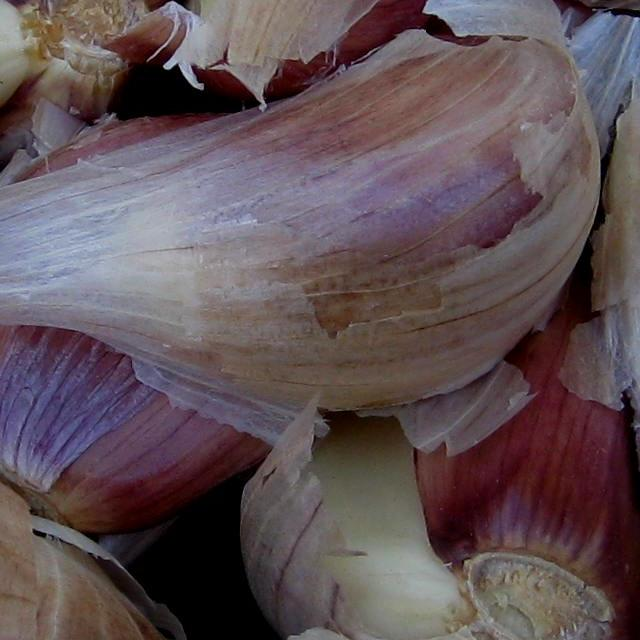garlic: (0, 12, 601, 437)
